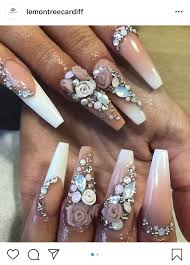nail: (1, 59, 65, 130), (61, 65, 125, 132), (95, 58, 148, 125), (113, 28, 163, 89), (102, 148, 133, 237), (141, 148, 172, 232), (68, 144, 97, 230), (39, 141, 69, 213)
